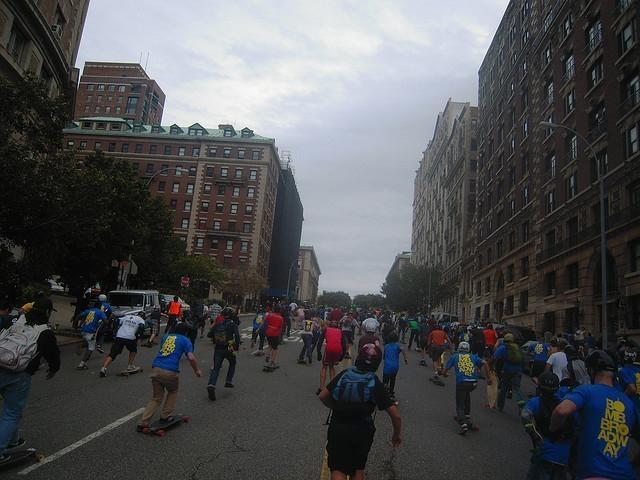car: (107, 290, 161, 328), (504, 324, 536, 346), (159, 294, 191, 314)
